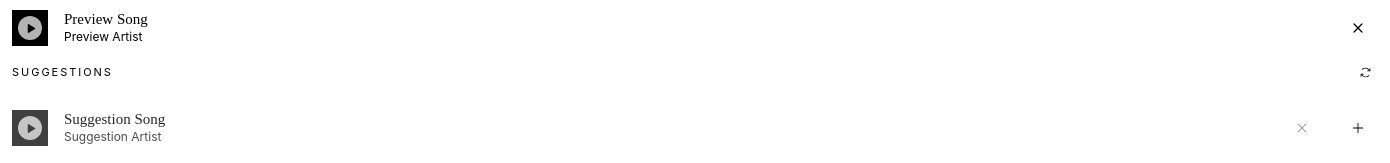
Test: shared playback coordination across preview + suggestions › activating a suggestions-tray row deactivates the preview list's active row
The image size is (1390, 163).
Click the button named "Play preview for Preview Song": (30, 28) [12,10,48,46]
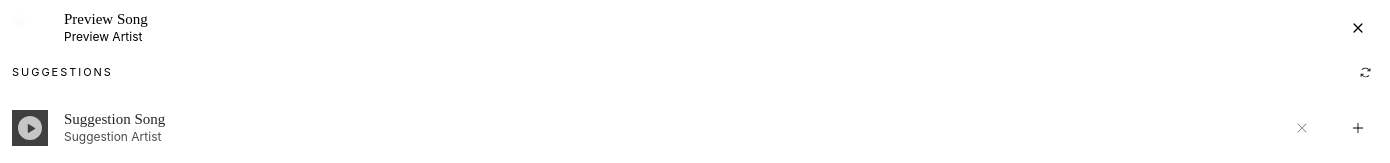
Click the button named "Play preview for Suggestion Song": (30, 128) [12,110,48,146]
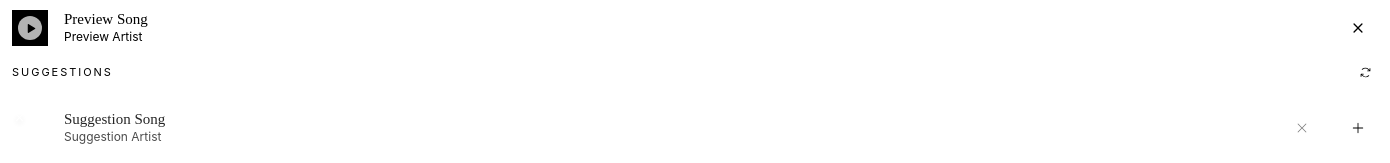
Check: the button named "Play preview for Preview Song" is shown, box [12,10,48,46]
